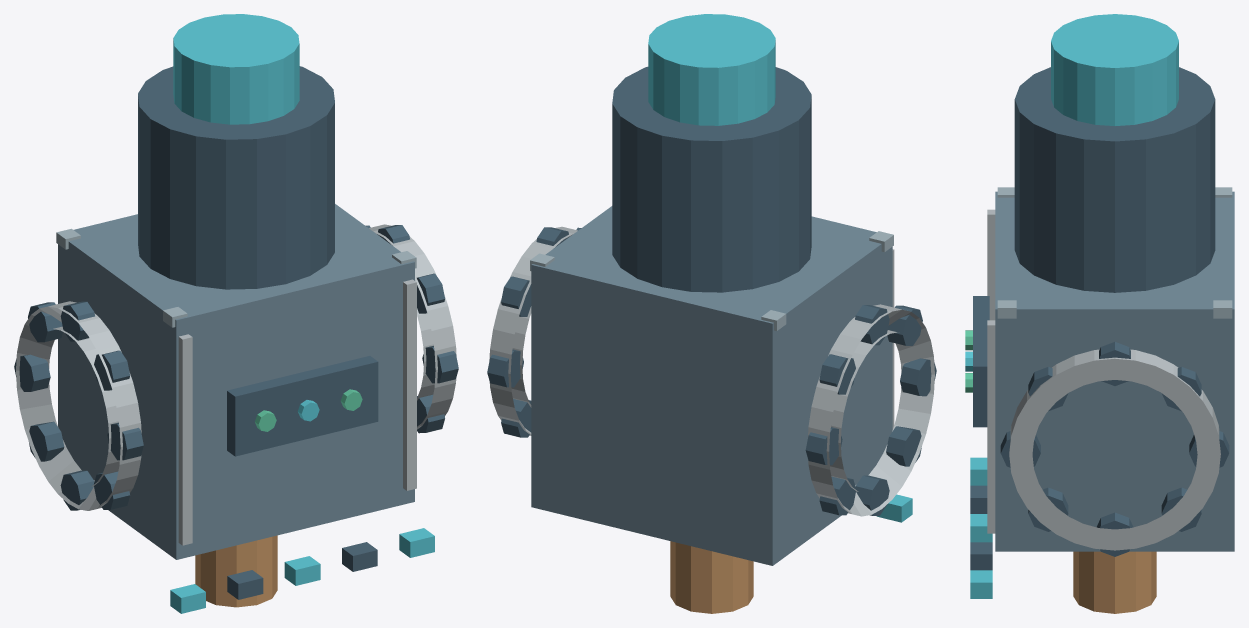
File: 16_L72_HighSpeedPulseValveA.glb
3 renders of one model, left to right at view 1: azimuth 30°, elevation 25°; view 2: azimuth 150°, elevation 25°; view 3: azimuth 270°, elevation 25°, orthographic.
Visible parts, largest first — view 1: HighSpeedPulseValveA_Part_000, HighSpeedPulseValveA_Part_025, HighSpeedPulseValveA_Part_026, HighSpeedPulseValveA_Part_038, HighSpeedPulseValveA_Part_007, HighSpeedPulseValveA_Part_037, HighSpeedPulseValveA_Part_016, HighSpeedPulseValveA_Part_005, HighSpeedPulseValveA_Part_006, HighSpeedPulseValveA_Part_013, HighSpeedPulseValveA_Part_014, HighSpeedPulseValveA_Part_009 (+13 smaller); view 2: HighSpeedPulseValveA_Part_000, HighSpeedPulseValveA_Part_025, HighSpeedPulseValveA_Part_026, HighSpeedPulseValveA_Part_007, HighSpeedPulseValveA_Part_037, HighSpeedPulseValveA_Part_016, HighSpeedPulseValveA_Part_011, HighSpeedPulseValveA_Part_010, HighSpeedPulseValveA_Part_015, HighSpeedPulseValveA_Part_023, HighSpeedPulseValveA_Part_014, HighSpeedPulseValveA_Part_009 (+6 smaller); view 3: HighSpeedPulseValveA_Part_000, HighSpeedPulseValveA_Part_025, HighSpeedPulseValveA_Part_016, HighSpeedPulseValveA_Part_026, HighSpeedPulseValveA_Part_037, HighSpeedPulseValveA_Part_038, HighSpeedPulseValveA_Part_006, HighSpeedPulseValveA_Part_005, HighSpeedPulseValveA_Part_045, HighSpeedPulseValveA_Part_046, HighSpeedPulseValveA_Part_021, HighSpeedPulseValveA_Part_044 (+11 smaller).
Part boxes in pixels (left/top/right/bottom): HighSpeedPulseValveA_Part_000: left=58, top=204, right=414, bottom=559; HighSpeedPulseValveA_Part_025: left=138, top=66, right=334, bottom=289; HighSpeedPulseValveA_Part_026: left=173, top=14, right=299, bottom=124; HighSpeedPulseValveA_Part_038: left=227, top=356, right=378, bottom=456; HighSpeedPulseValveA_Part_007: left=16, top=301, right=141, bottom=510; HighSpeedPulseValveA_Part_037: left=195, top=535, right=277, bottom=607; HighSpeedPulseValveA_Part_016: left=369, top=224, right=456, bottom=429; HighSpeedPulseValveA_Part_005: left=178, top=334, right=192, bottom=545; HighSpeedPulseValveA_Part_006: left=403, top=279, right=416, bottom=490; HighSpeedPulseValveA_Part_013: left=29, top=421, right=64, bottom=461; HighSpeedPulseValveA_Part_014: left=14, top=354, right=50, bottom=391; HighSpeedPulseValveA_Part_009: left=94, top=350, right=129, bottom=390; HighSpeedPulseValveA_Part_000: left=531, top=206, right=892, bottom=565; HighSpeedPulseValveA_Part_025: left=612, top=66, right=811, bottom=292; HighSpeedPulseValveA_Part_026: left=648, top=14, right=775, bottom=125; HighSpeedPulseValveA_Part_007: left=808, top=304, right=934, bottom=516; HighSpeedPulseValveA_Part_037: left=670, top=541, right=753, bottom=613; HighSpeedPulseValveA_Part_016: left=489, top=226, right=577, bottom=435; HighSpeedPulseValveA_Part_011: left=886, top=426, right=921, bottom=466; HighSpeedPulseValveA_Part_010: left=900, top=358, right=936, bottom=396; HighSpeedPulseValveA_Part_015: left=819, top=354, right=855, bottom=394; HighSpeedPulseValveA_Part_023: left=487, top=349, right=523, bottom=387; HighSpeedPulseValveA_Part_014: left=805, top=427, right=842, bottom=465; HighSpeedPulseValveA_Part_009: left=887, top=305, right=922, bottom=345; HighSpeedPulseValveA_Part_000: left=995, top=191, right=1234, bottom=551; HighSpeedPulseValveA_Part_025: left=1014, top=67, right=1215, bottom=292; HighSpeedPulseValveA_Part_016: left=1009, top=349, right=1220, bottom=550; HighSpeedPulseValveA_Part_026: left=1051, top=14, right=1178, bottom=125; HighSpeedPulseValveA_Part_037: left=1073, top=551, right=1156, bottom=613; HighSpeedPulseValveA_Part_038: left=973, top=296, right=989, bottom=427; HighSpeedPulseValveA_Part_006: left=987, top=320, right=995, bottom=533; HighSpeedPulseValveA_Part_005: left=987, top=209, right=995, bottom=320; HighSpeedPulseValveA_Part_045: left=970, top=542, right=992, bottom=570; HighSpeedPulseValveA_Part_046: left=970, top=570, right=992, bottom=598; HighSpeedPulseValveA_Part_021: left=1097, top=512, right=1133, bottom=556; HighSpeedPulseValveA_Part_044: left=970, top=514, right=992, bottom=542.
Bounding box in the file's own units: 0.705 × 1.1 × 0.484.
